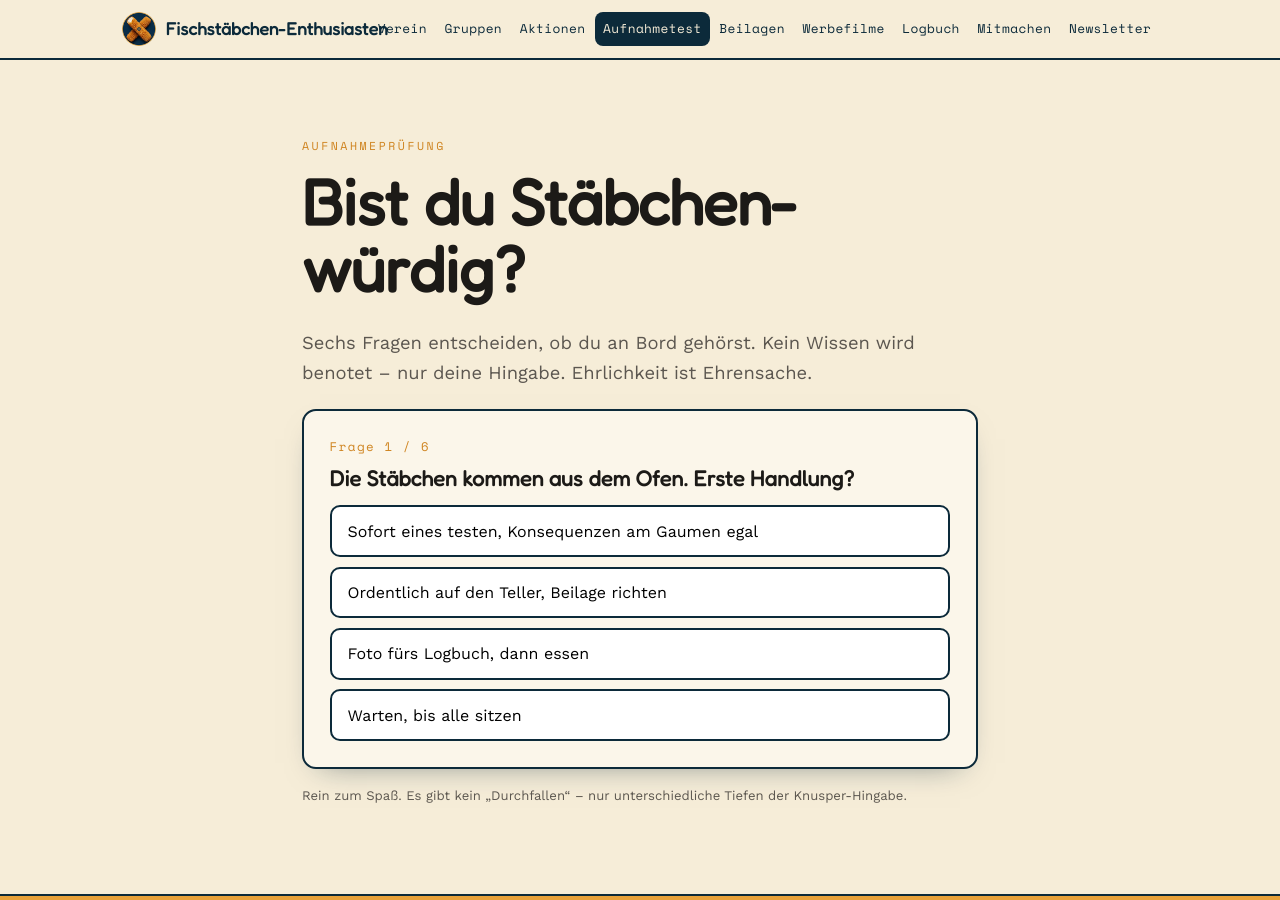
Test: Aufnahmetest-Interaktion › klickt sich durch alle Fragen und zeigt ein Ergebnis
This screenshot has width=1280, height=900.
Expected: the text "Frage 1 / 6" is shown, [330,437,430,456]
Click the button "Sofort eines testen, Konsequenzen am Gaumen egal" at point(640, 531), box [330,505,950,557]
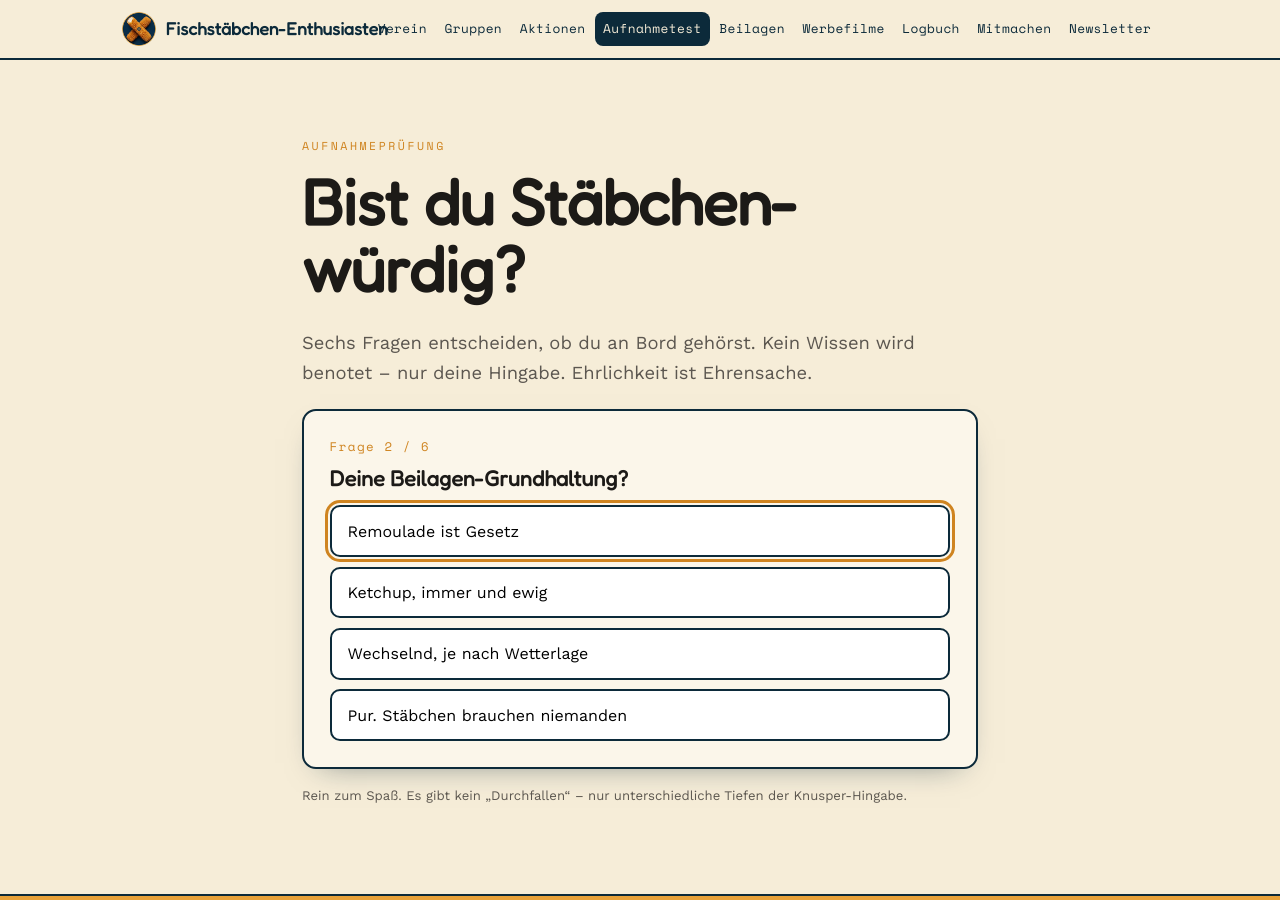
Click the button "Remoulade ist Gesetz" at point(433, 531), box [330,505,950,557]
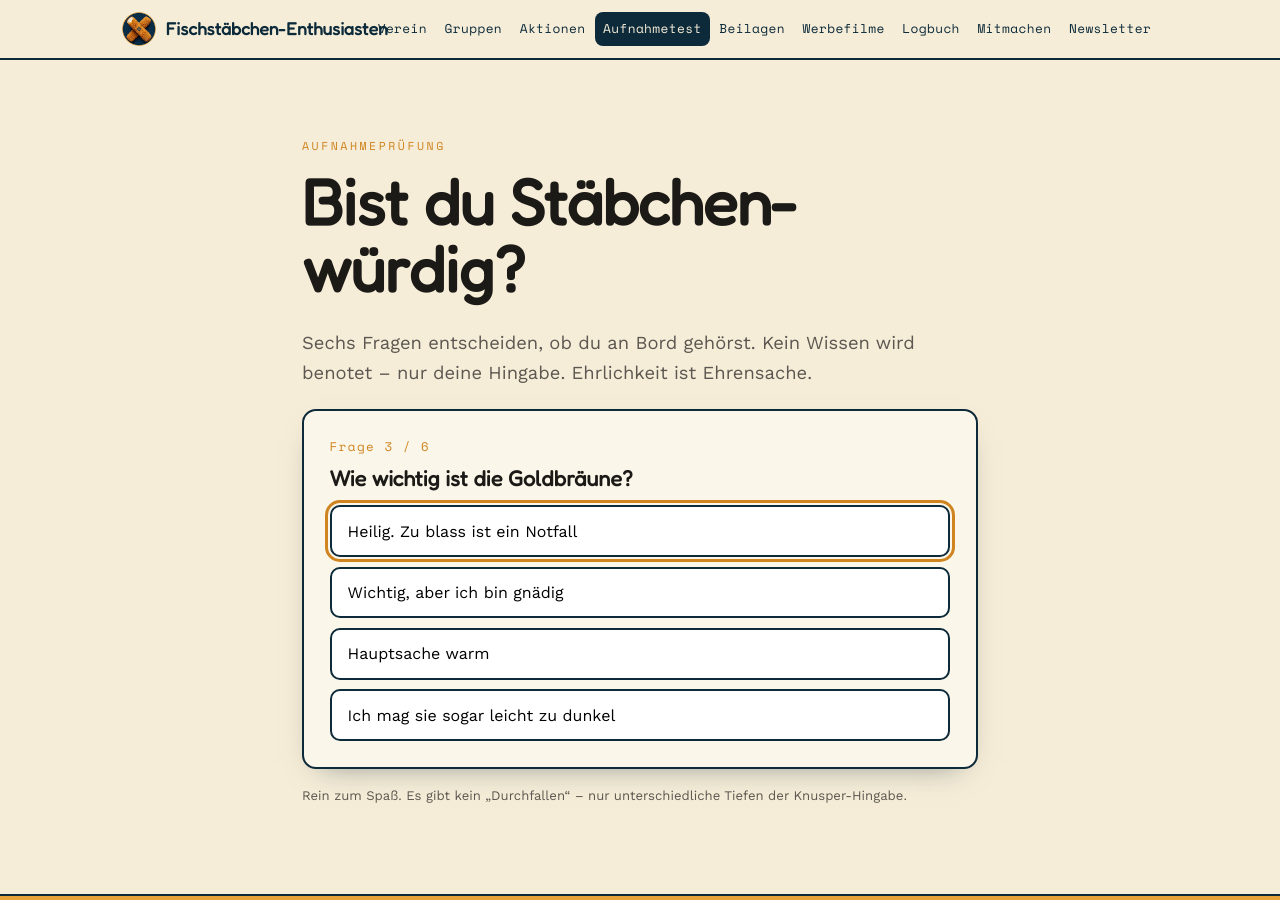
Click the button "Heilig. Zu blass ist ein Notfall" at point(462, 531), box [330,505,950,557]
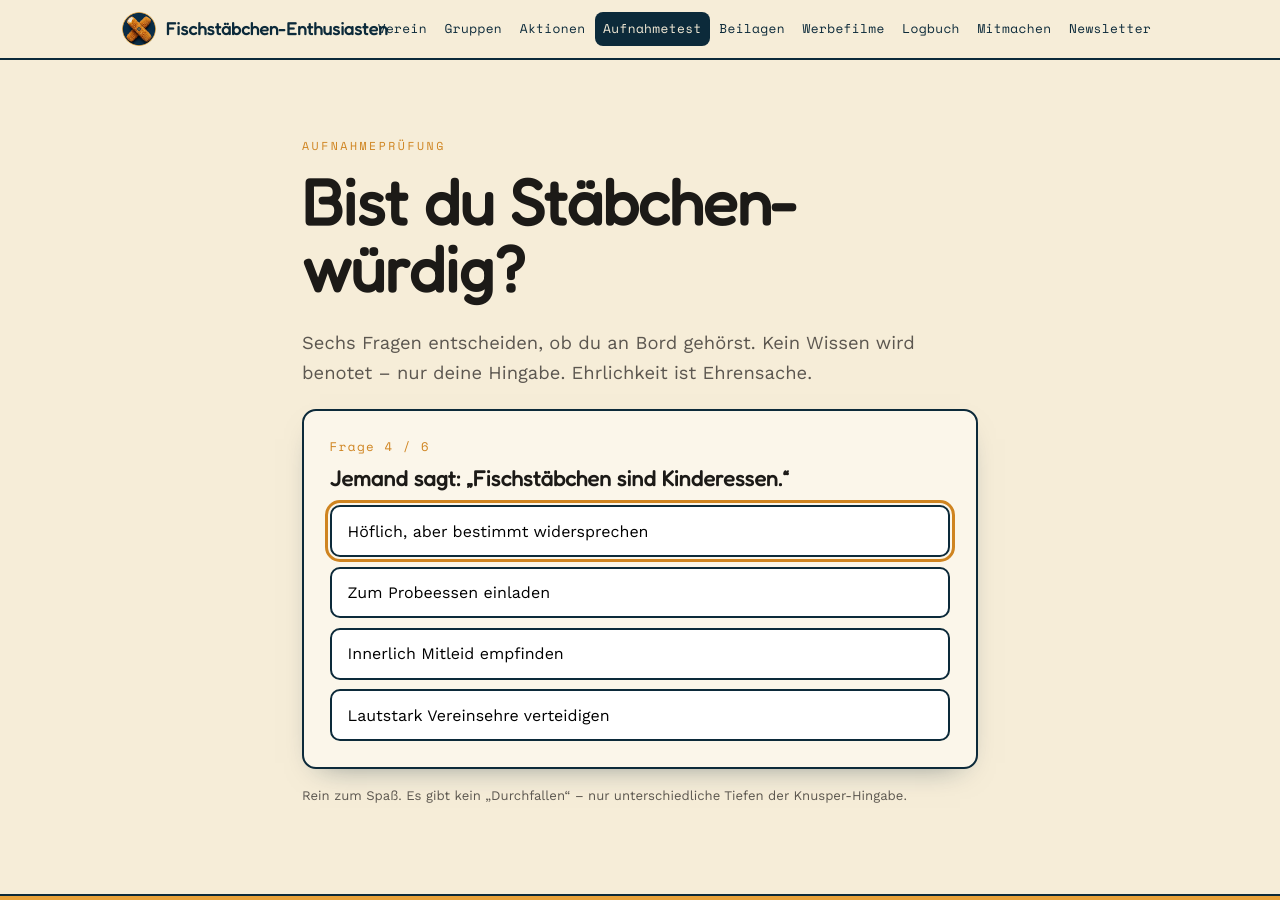
Click the button "Höflich, aber bestimmt widersprechen" at point(640, 531), box [330,505,950,557]
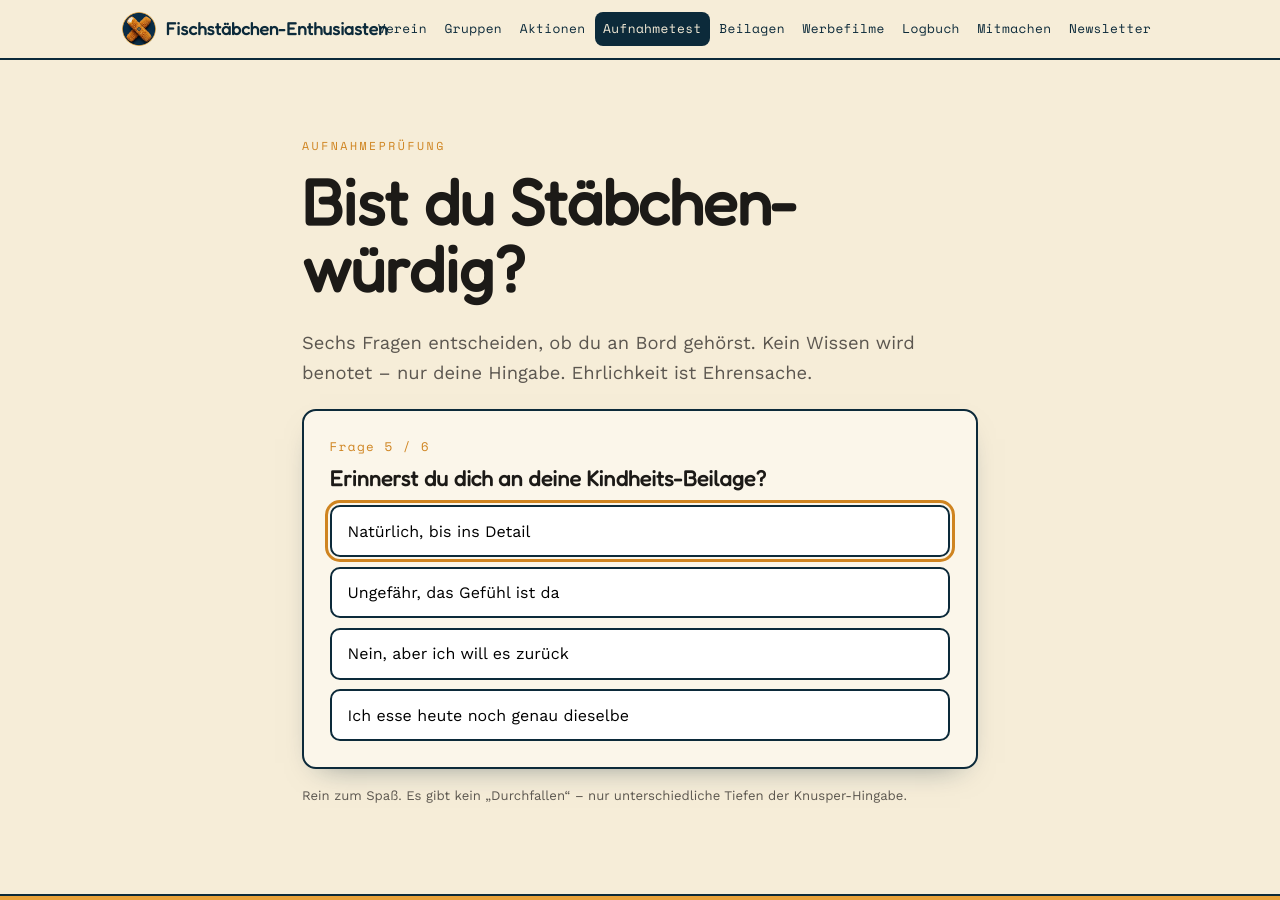
Click the button "Natürlich, bis ins Detail" at point(439, 531), box [330,505,950,557]
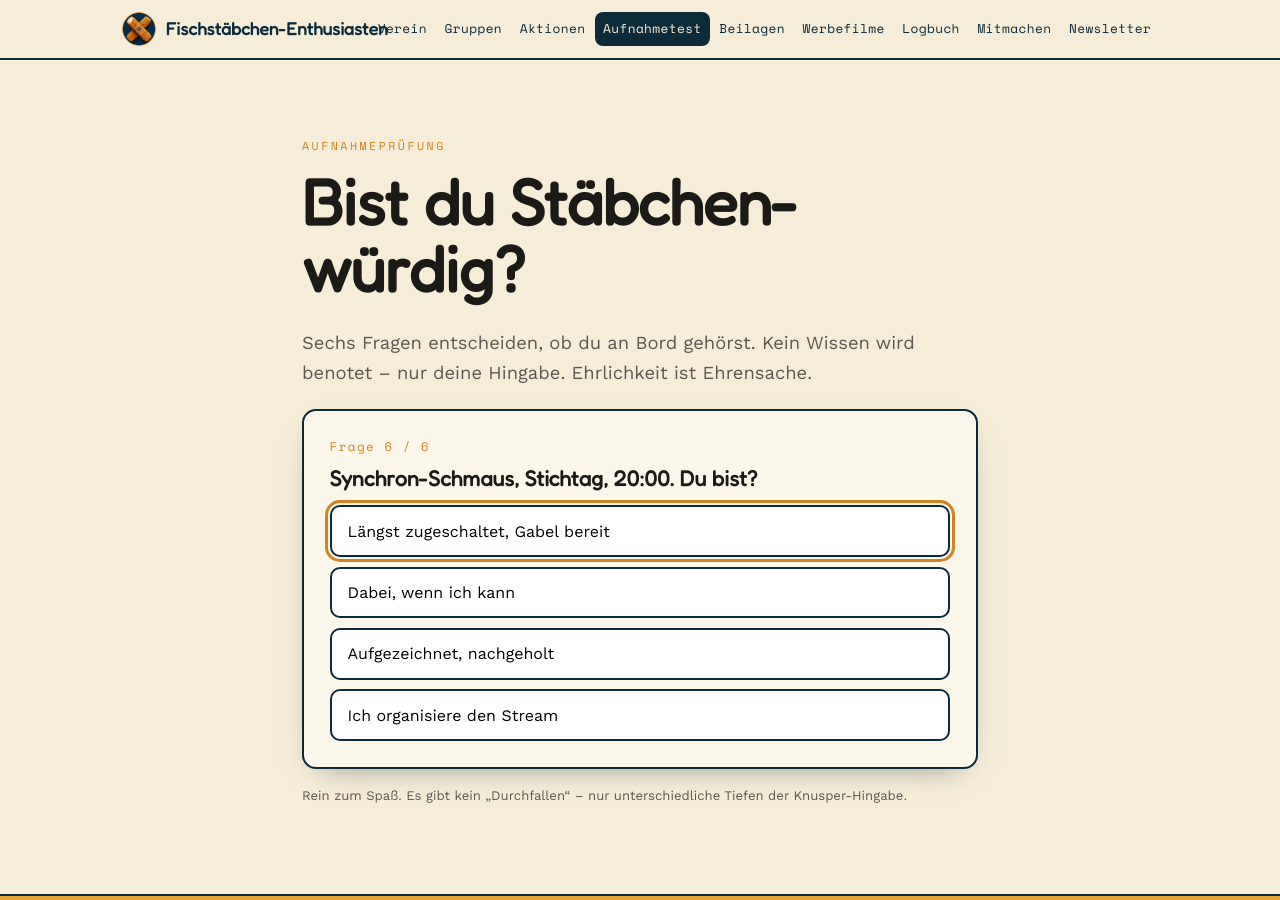
Click the button "Längst zugeschaltet, Gabel bereit" at point(479, 531), box [330,505,950,557]
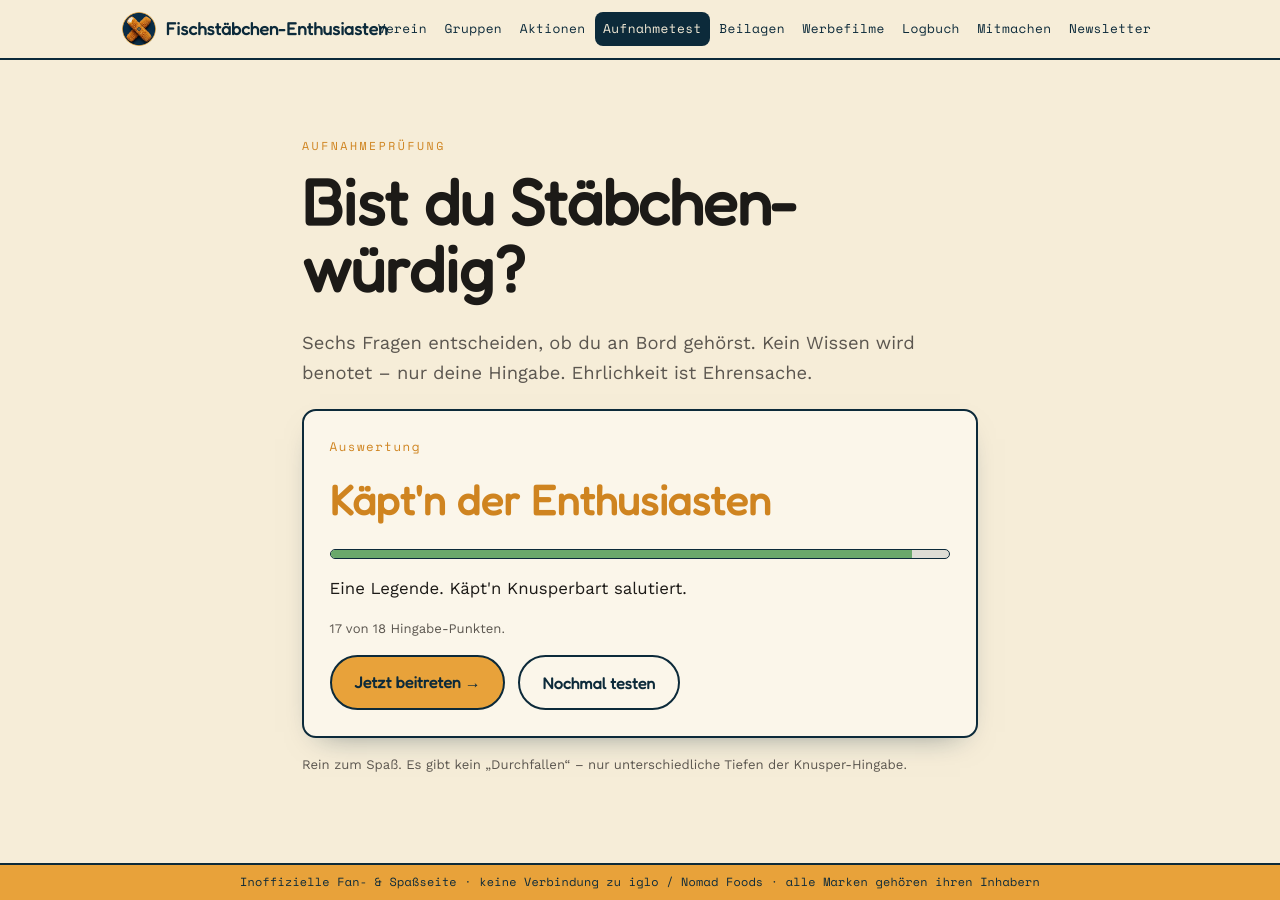
Result: the text "Auswertung" is shown at [330,437,421,456]
Result: the text "17 von 18 Hingabe-Punkten." is shown at [330,621,505,636]
